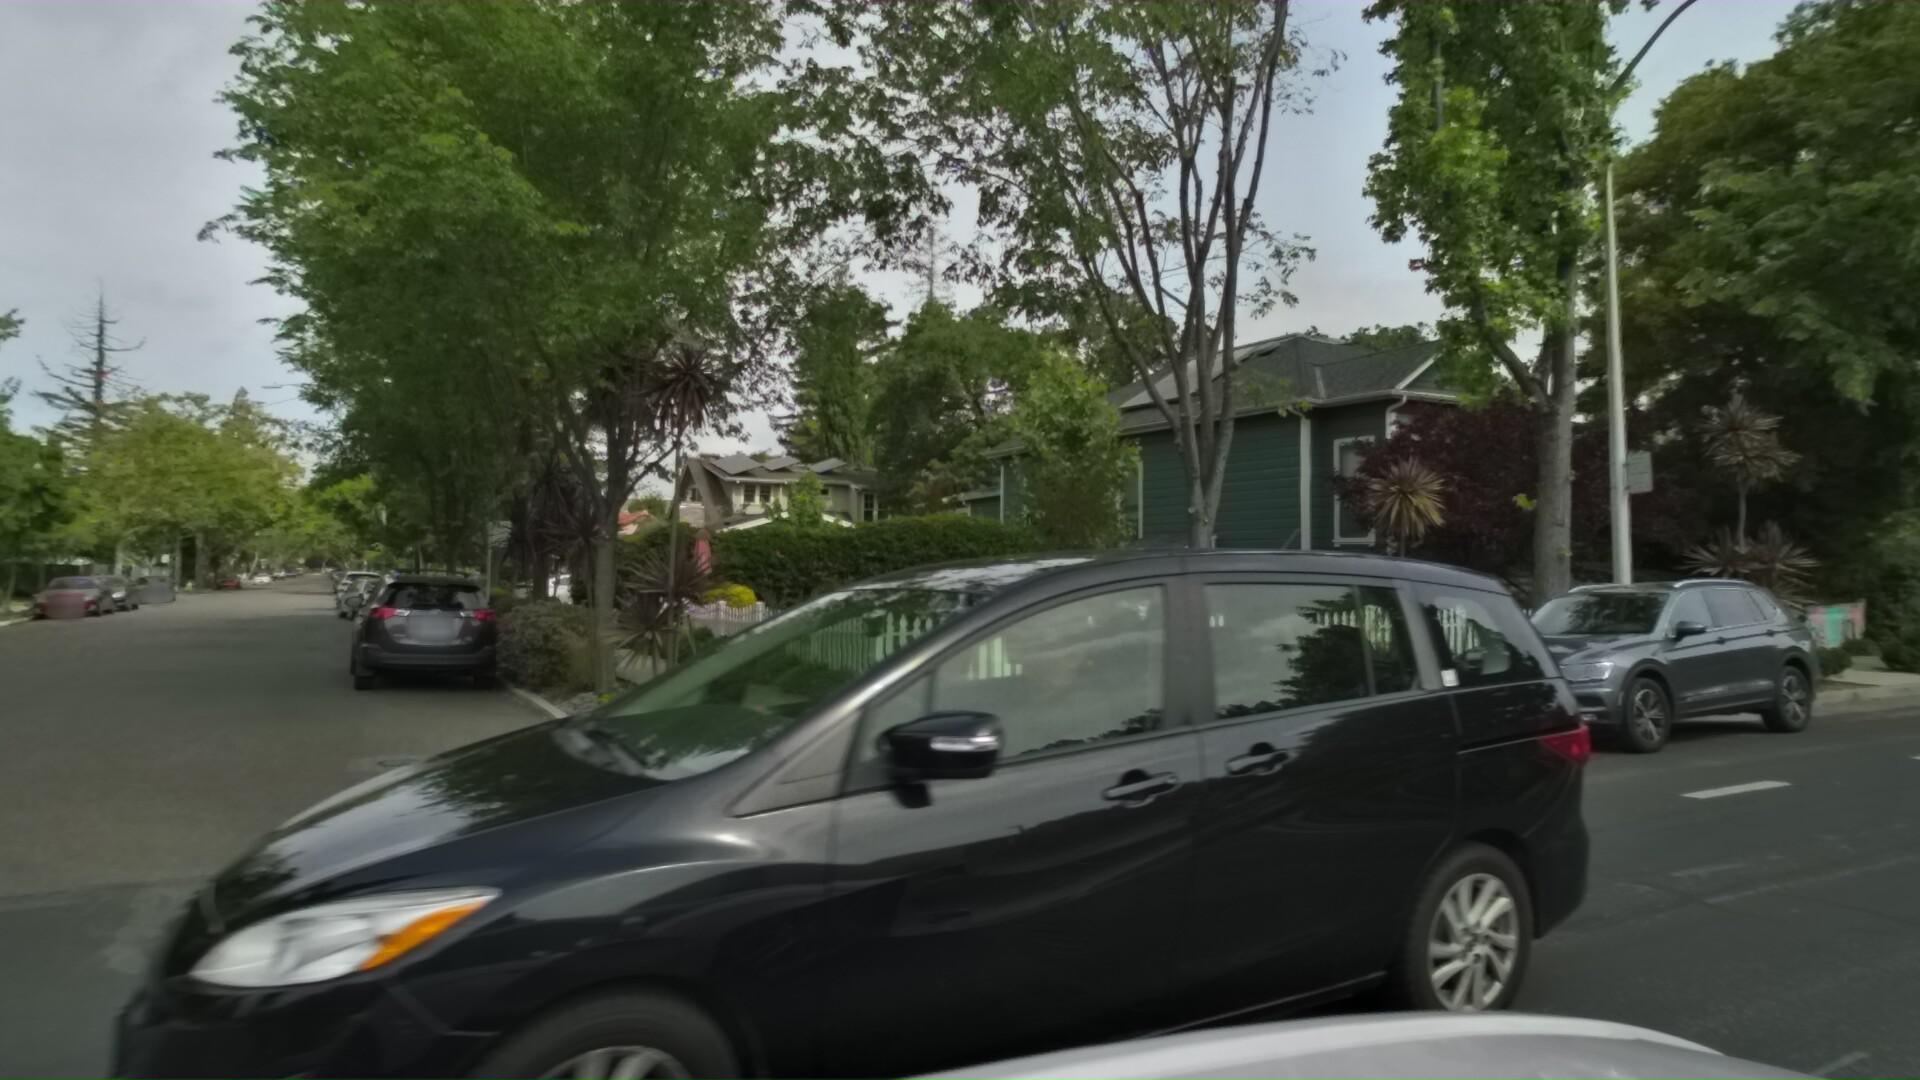car: (1371, 578, 1822, 789), (302, 564, 469, 709), (483, 568, 626, 615), (3, 570, 113, 624), (47, 566, 135, 615), (318, 571, 396, 620), (320, 564, 373, 611), (112, 566, 171, 604)
